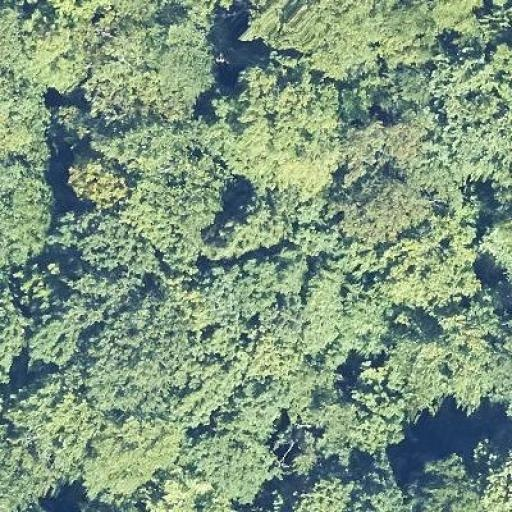tree-top: (240, 203, 378, 358), (201, 55, 349, 198), (246, 0, 485, 80), (125, 101, 229, 260), (87, 20, 230, 120), (0, 363, 91, 510), (326, 123, 432, 247), (49, 201, 152, 321), (68, 403, 193, 501), (430, 102, 512, 231), (390, 309, 496, 407), (374, 216, 482, 310), (100, 293, 190, 405), (302, 364, 400, 459), (0, 270, 90, 370), (188, 416, 287, 506), (18, 0, 104, 99), (406, 445, 512, 512), (297, 450, 405, 512), (0, 159, 50, 266), (58, 150, 138, 210)
